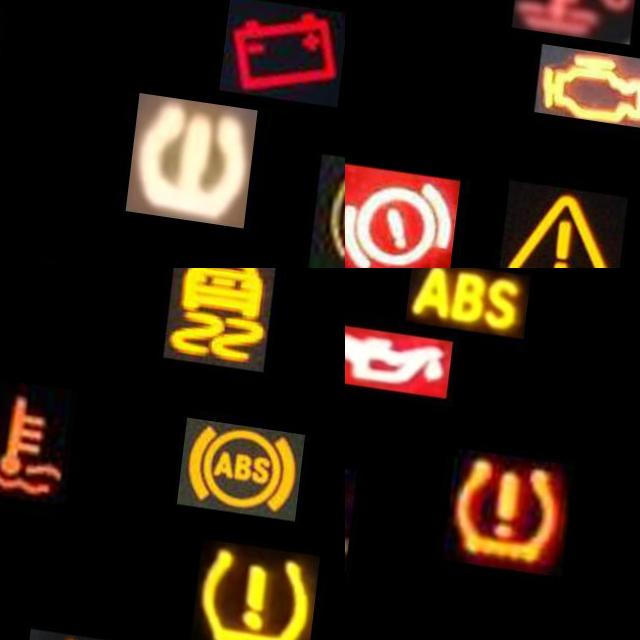Central Warning lamp: (506, 170, 634, 268)
Engine cooling system: (0, 366, 82, 495), (514, 0, 639, 30)
